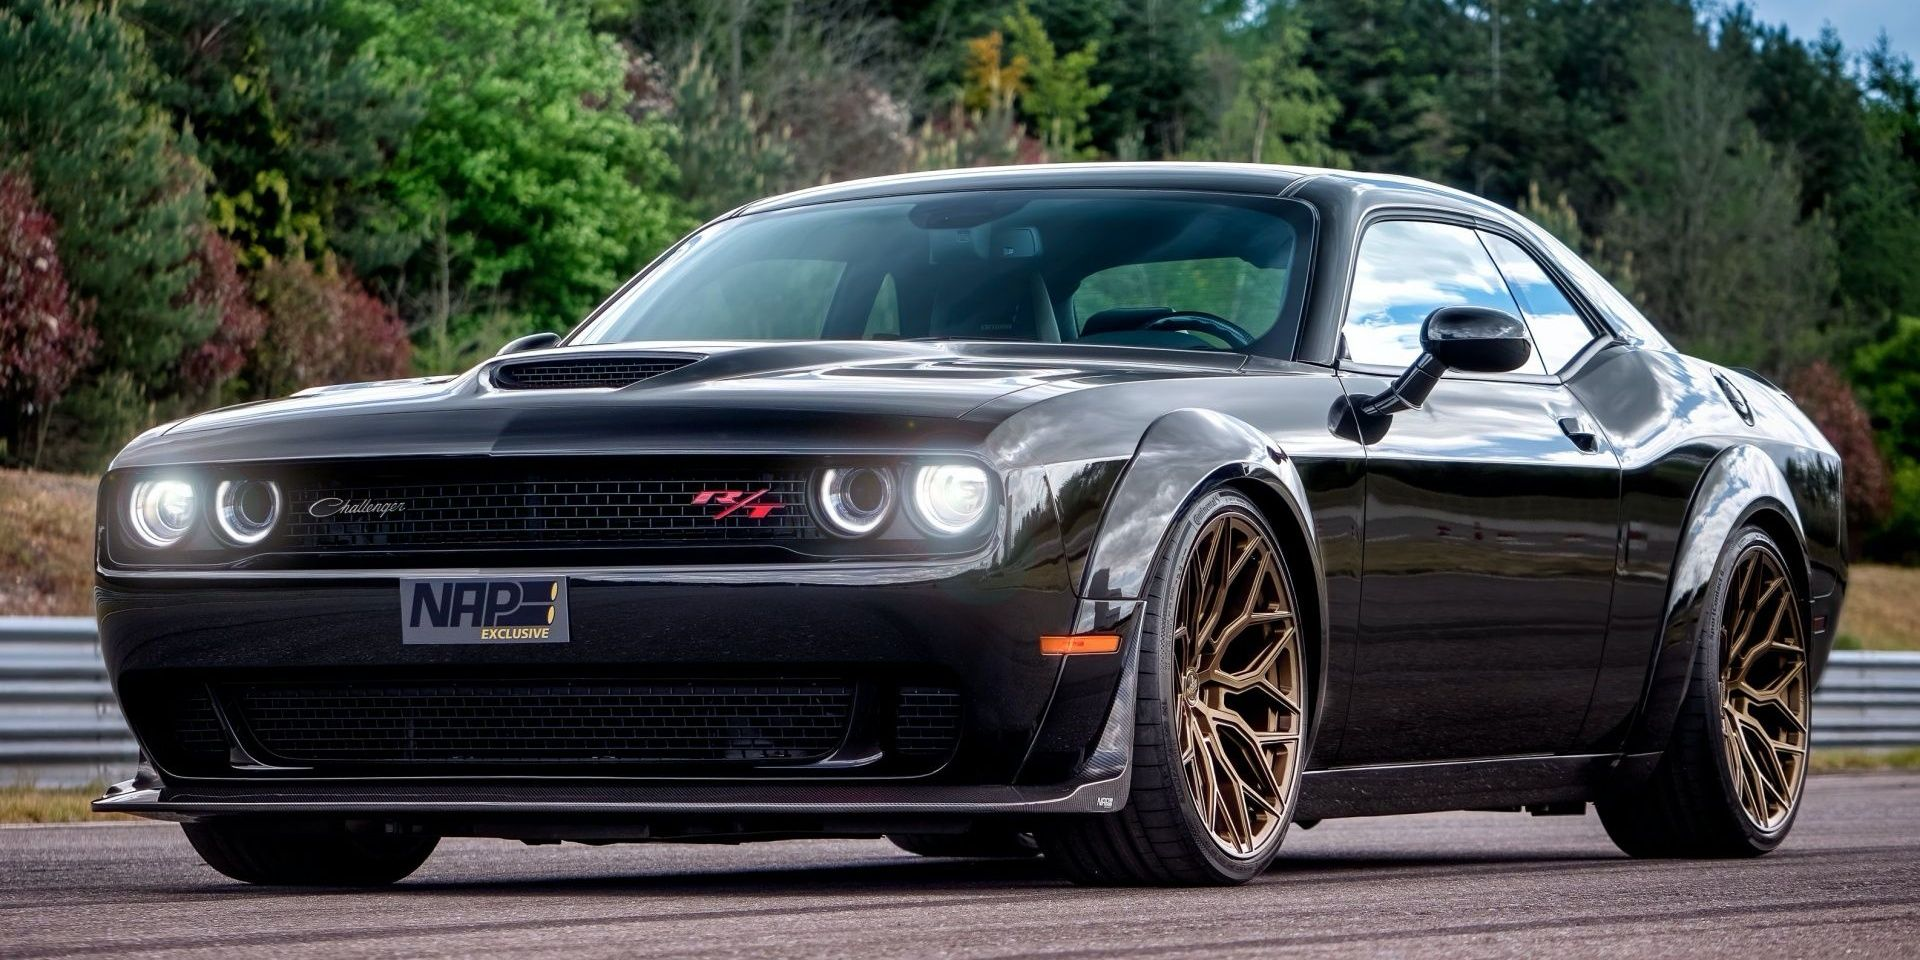headlight: (804, 429, 1003, 539), (94, 467, 342, 546)
wheel: (1049, 452, 1338, 873), (1607, 520, 1823, 850), (156, 809, 447, 883)
